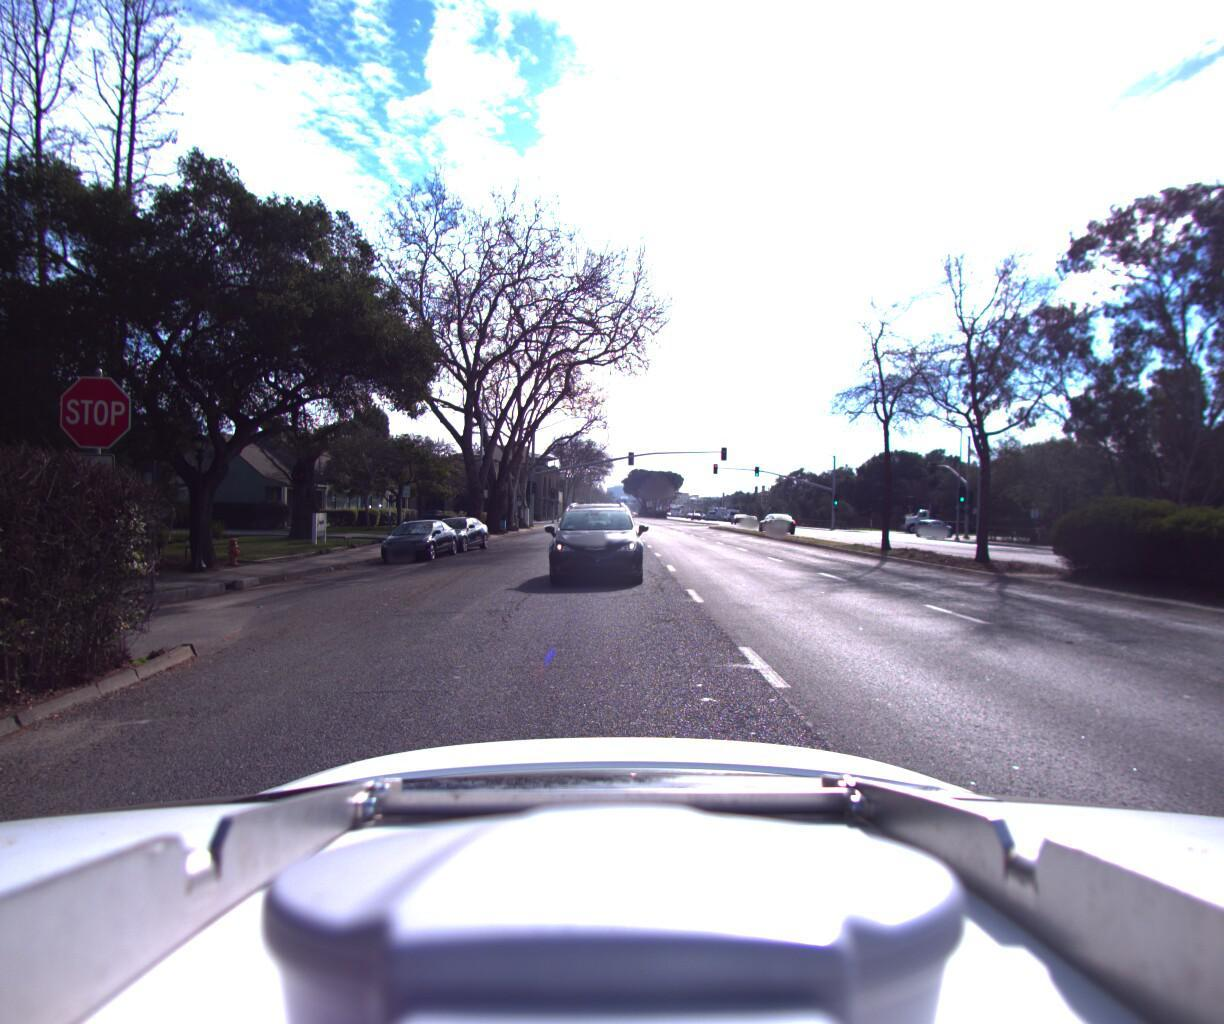car: (544, 495, 646, 586), (378, 513, 468, 559), (419, 511, 498, 552), (756, 509, 798, 532)
